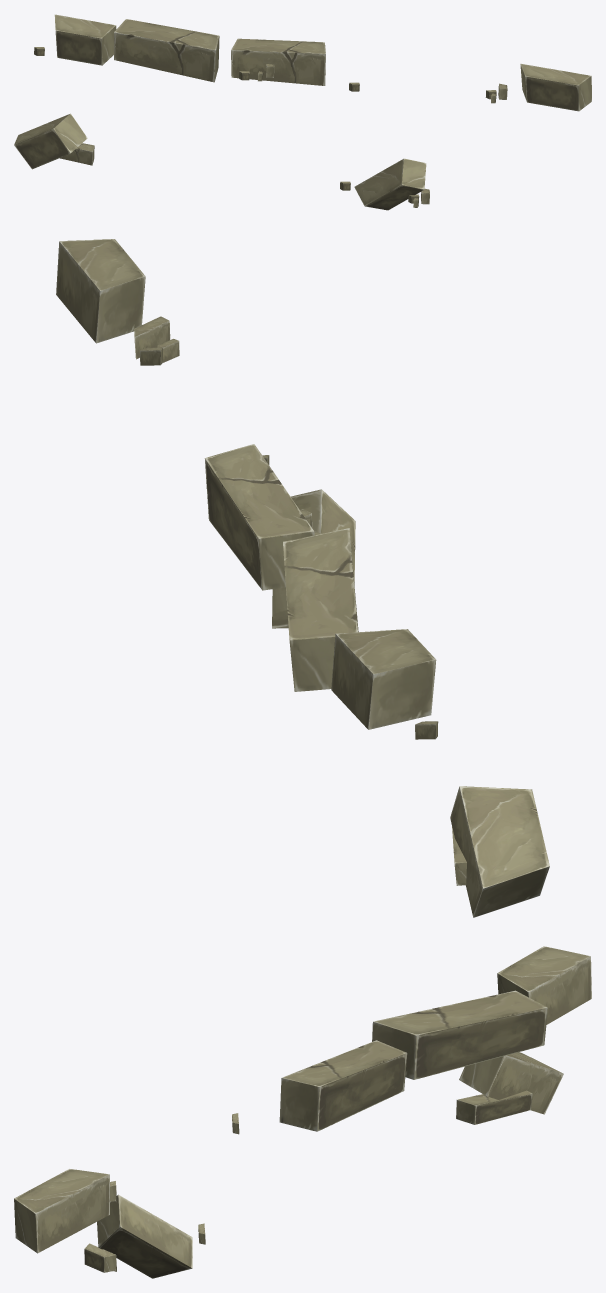
The model's file is wallrocks_diagonalbase3.fbx.
The picture shows the model from 3 angles, top to bottom: view 1: azimuth 30°, elevation 25°; view 2: azimuth 150°, elevation 25°; view 3: azimuth 270°, elevation 25°; orthographic projection. The views are drawn at different scales.
Parts seen in each view (by area): view 1: rocks18; view 2: rocks18; view 3: rocks18.
Part boxes in pixels (<box>): rocks18: <box>14,14,591,210</box>; rocks18: <box>56,239,549,917</box>; rocks18: <box>14,946,591,1278</box>.
Bounding box in the file's own units: 2.07 × 0.6274 × 1.71.
